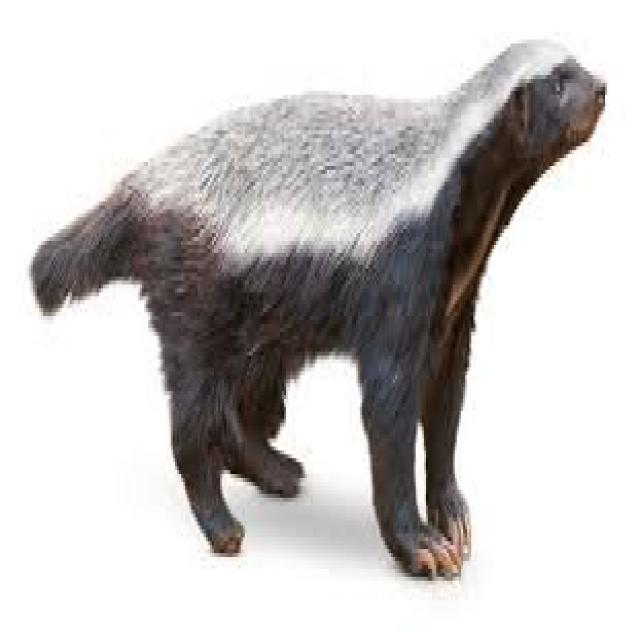Badger: (20, 28, 622, 585)
